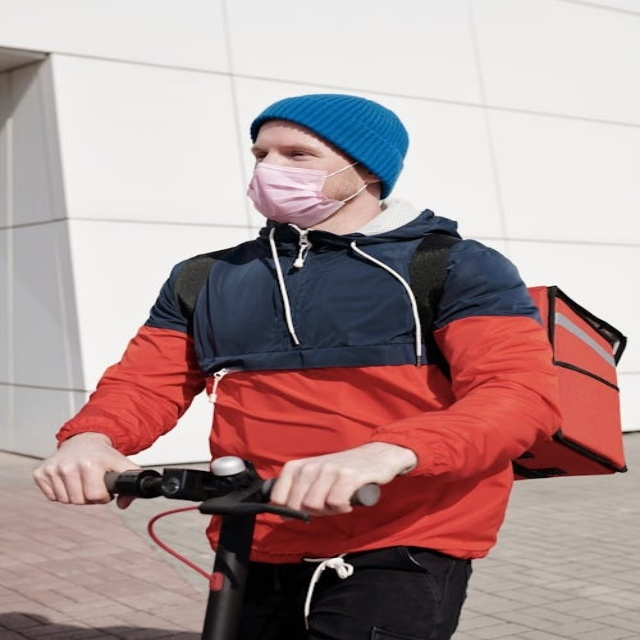Mascara: (234, 161, 372, 228)
Sin_gafas: (246, 139, 326, 161)
Sin_guantes: (268, 442, 416, 517), (32, 437, 143, 507)
